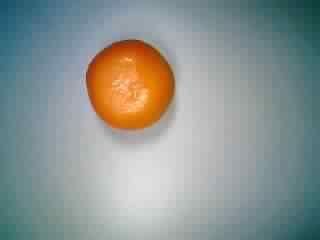orange: (82, 35, 179, 133)
